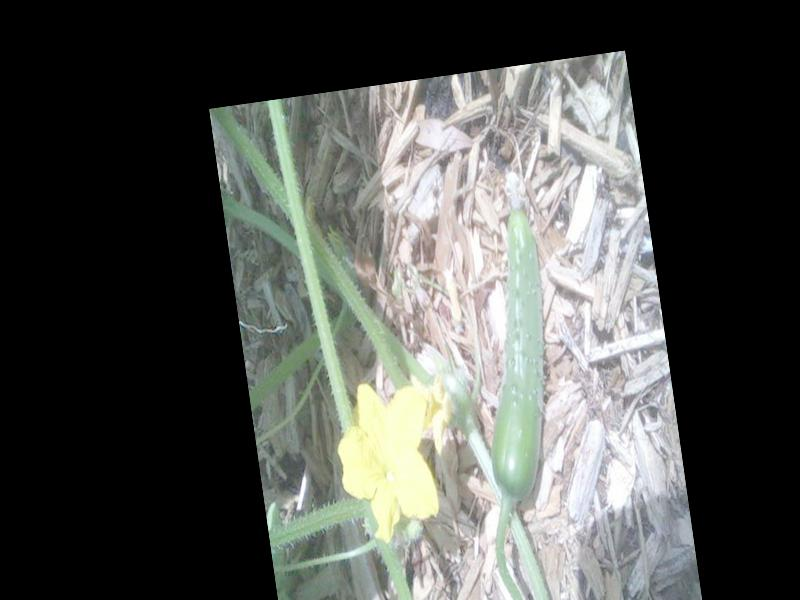Cucumber: (452, 175, 574, 507)
